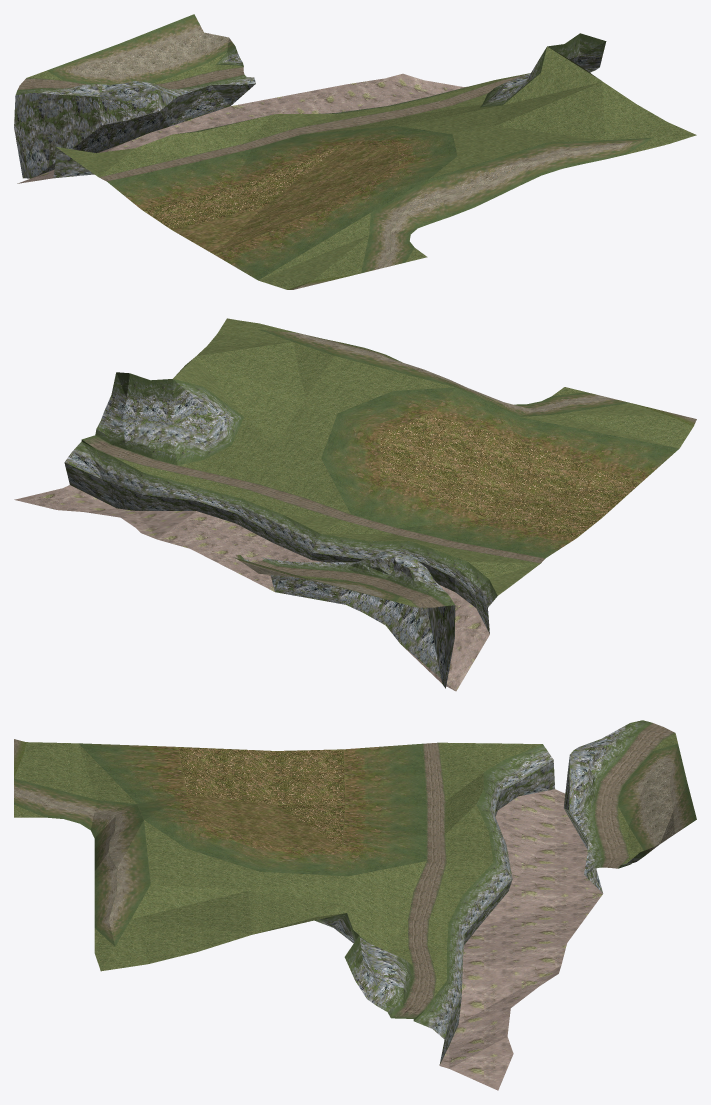
Rendered from cunteground38.obj.
3 views of the same model, one above another, from view 1: azimuth 30°, elevation 25°; view 2: azimuth 150°, elevation 25°; view 3: azimuth 270°, elevation 25° (orthographic). The views are drawn at different scales.
Visible parts, largest first — view 1: cuntEground38; view 2: cuntEground38; view 3: cuntEground38.
Part boxes in pixels (left/top/right/bottom): cuntEground38: left=14, top=14, right=696, bottom=289; cuntEground38: left=14, top=318, right=696, bottom=691; cuntEground38: left=14, top=720, right=696, bottom=1090.
Bounding box in the file's own units: 285 × 68.2 × 276.
